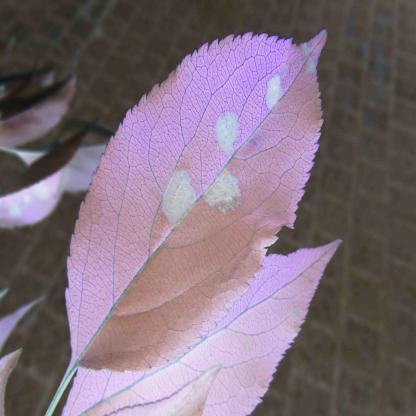Apple Scab Leaf: (64, 19, 327, 376)
